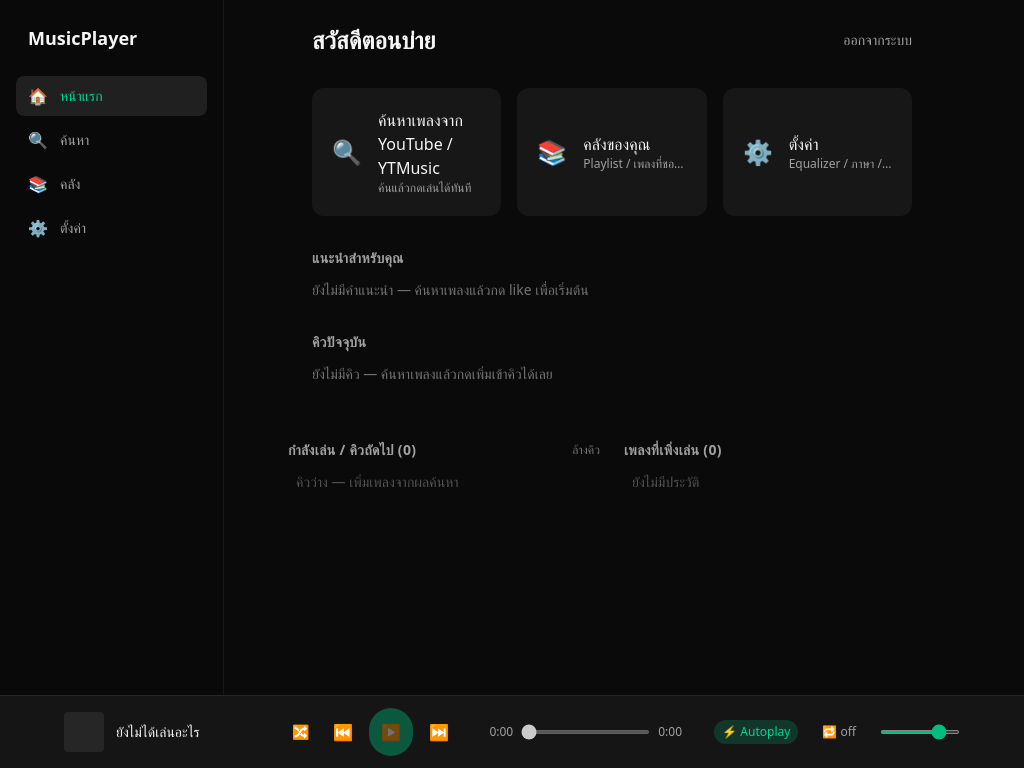
it: AppShell › คลิก nav ไป Library แล้วเห็น tabs
The width and height of the screenshot is (1024, 768).
Step 1. Click the link with test id "nav-library" → [38, 184], box [28,173,80,195]
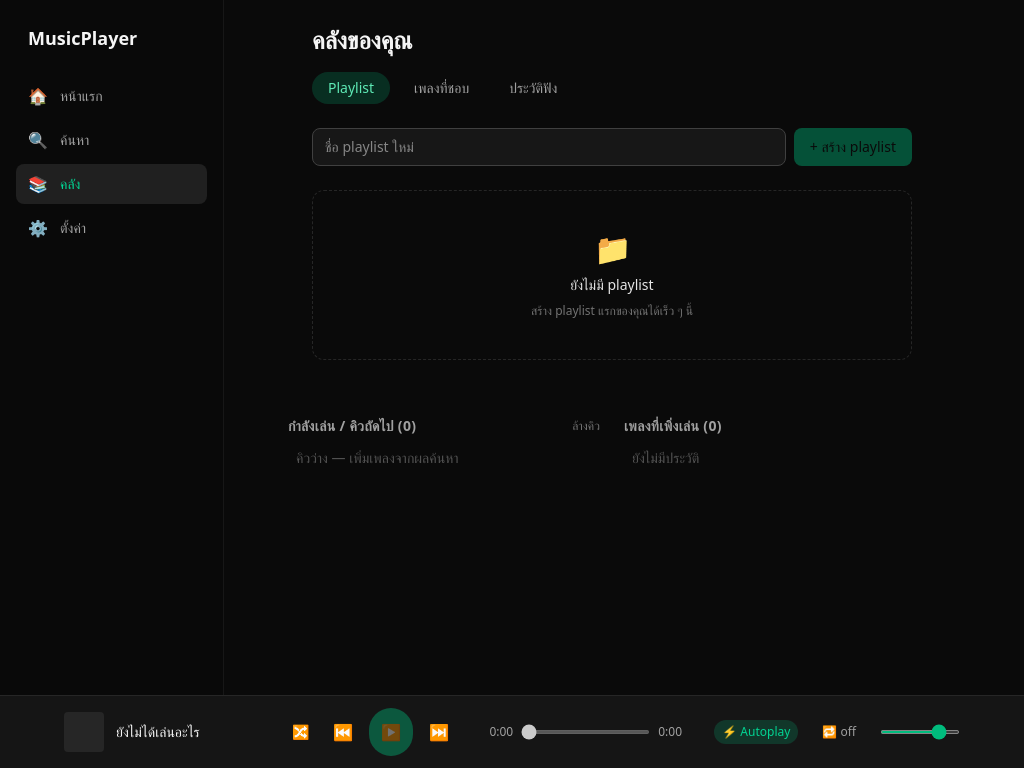
Result: the tab with test id "library-tab-playlists" is shown at [312,72,390,104]
Result: the element with test id "library-empty-playlists" is shown at [312,190,912,360]
